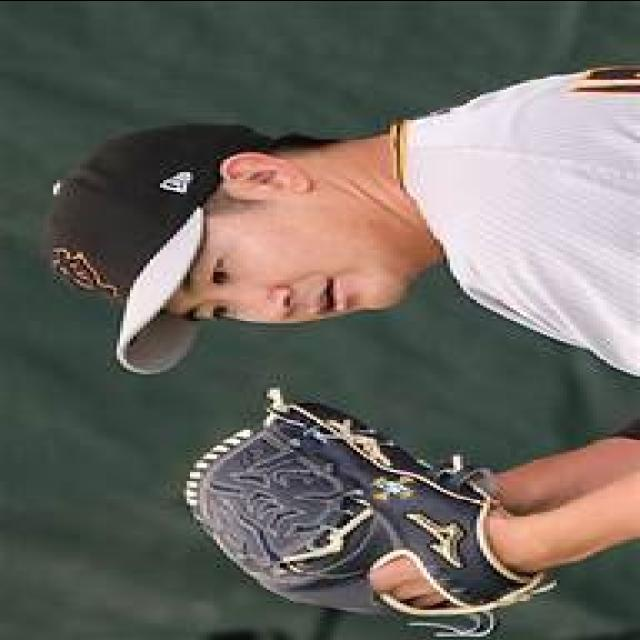glove: (168, 379, 570, 640)
